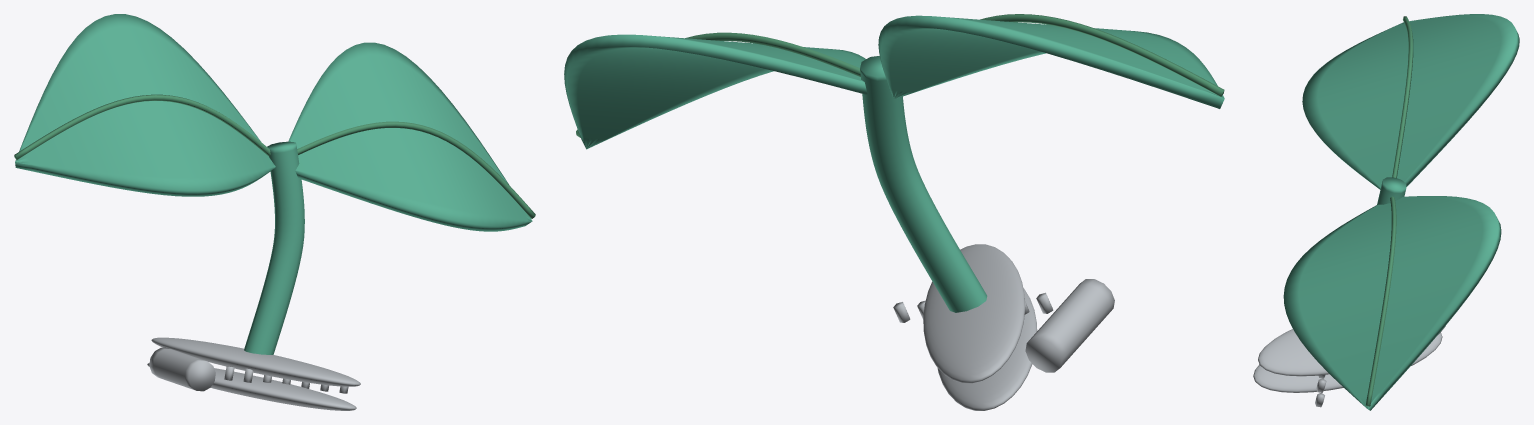
File: Masculine-sidepart-ears258-sprout.glb
3 renders of one model, left to right at view 1: azimuth 30°, elevation 25°; view 2: azimuth 150°, elevation 25°; view 3: azimuth 270°, elevation 25°, orthographic. The views are drawn at different scales.
Parts seen in each view (by area): view 1: 226 extra / Accessory / mint226, 226 extra / Sprout / clip silver235, 226 extra / Sprout / leaf vein235; view 2: 226 extra / Accessory / mint226, 226 extra / Sprout / clip silver235, 226 extra / Sprout / leaf vein235; view 3: 226 extra / Accessory / mint226, 226 extra / Sprout / clip silver235, 226 extra / Sprout / leaf vein235.
Part boxes in pixels (left/top/right/bottom): 226 extra / Accessory / mint226: left=15, top=14, right=532, bottom=354; 226 extra / Sprout / clip silver235: left=147, top=337, right=360, bottom=410; 226 extra / Sprout / leaf vein235: left=14, top=94, right=535, bottom=218; 226 extra / Accessory / mint226: left=564, top=15, right=1224, bottom=312; 226 extra / Sprout / clip silver235: left=893, top=244, right=1114, bottom=410; 226 extra / Sprout / leaf vein235: left=576, top=14, right=1224, bottom=137; 226 extra / Accessory / mint226: left=1283, top=14, right=1519, bottom=410; 226 extra / Sprout / clip silver235: left=1253, top=326, right=1445, bottom=407; 226 extra / Sprout / leaf vein235: left=1366, top=16, right=1413, bottom=406.
Bounding box in the file's own units: 0.2585 × 0.1653 × 0.1258.
